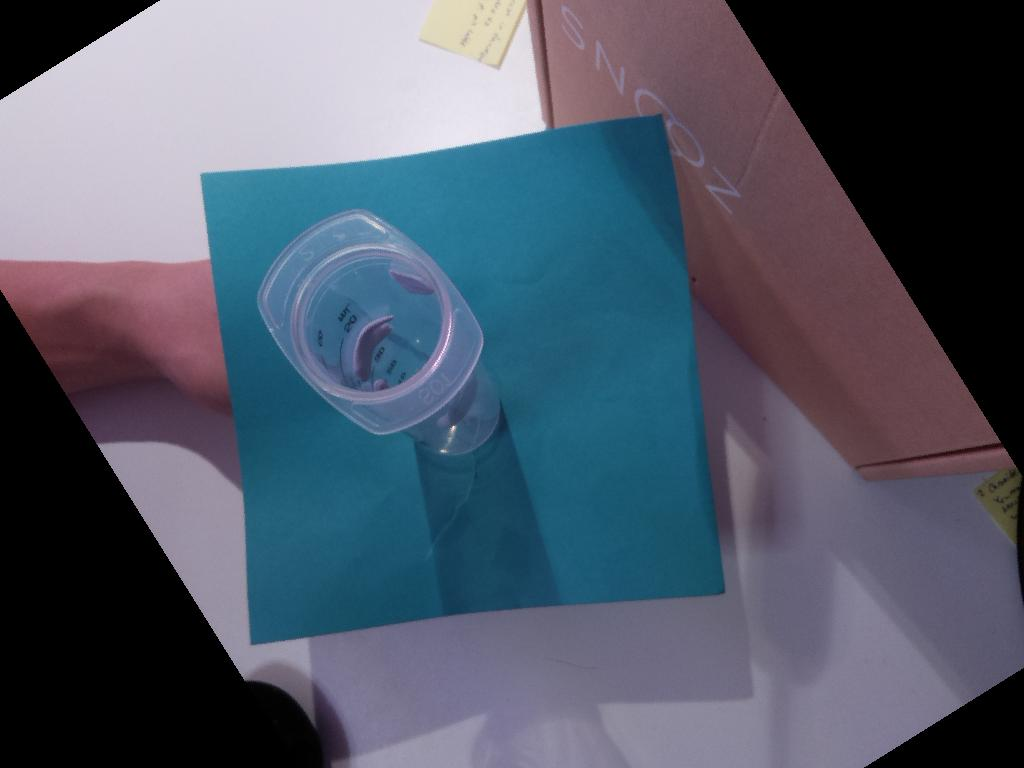dirty: (256, 207, 483, 437)
